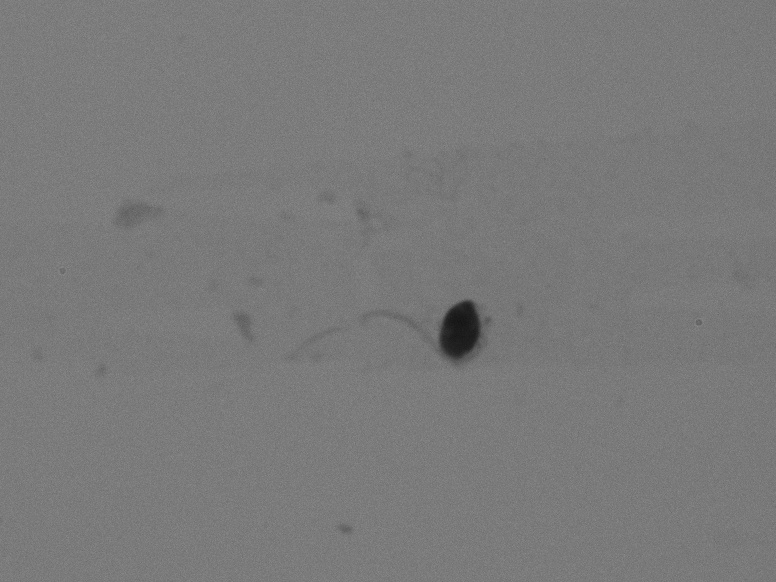Abnormal: (252, 239, 544, 446)
